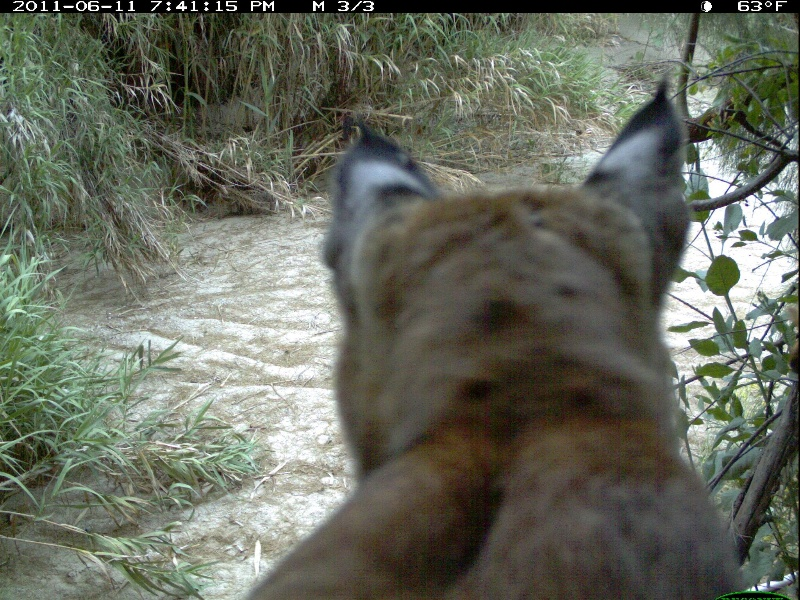cat: (313, 80, 712, 600)
